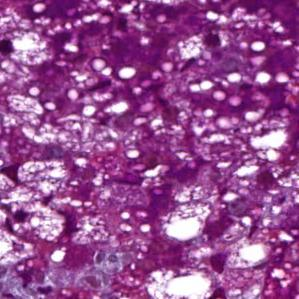ballooning: (6, 26, 58, 73)
